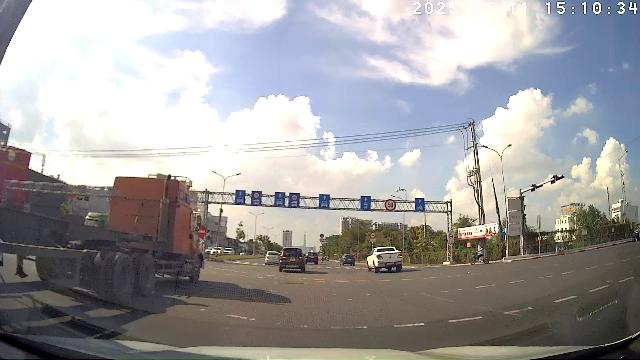127-toc-do-toi-da-50: (384, 199, 396, 210)
